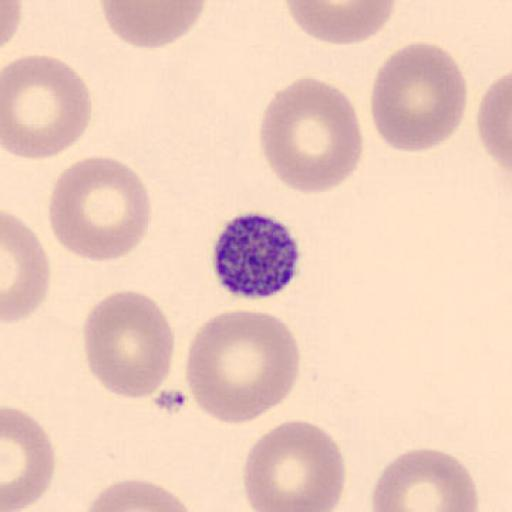Platelet: (208, 209, 306, 300)
RBC: (184, 307, 301, 426), (258, 75, 364, 196), (47, 154, 154, 263), (370, 40, 468, 154), (80, 288, 176, 400), (242, 417, 348, 512), (2, 54, 93, 160), (370, 447, 480, 512), (1, 405, 57, 512), (2, 208, 52, 325), (98, 0, 208, 49), (284, 0, 398, 45), (82, 476, 201, 512), (476, 71, 512, 172), (0, 0, 23, 52)
